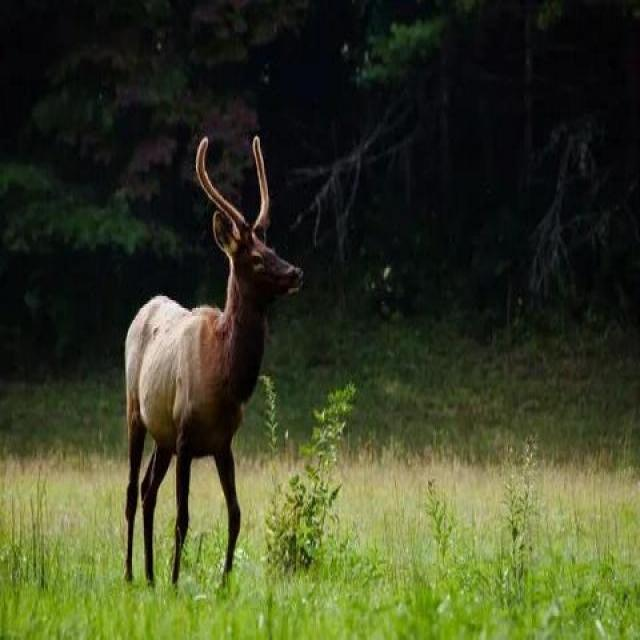deer: (70, 164, 356, 549)
